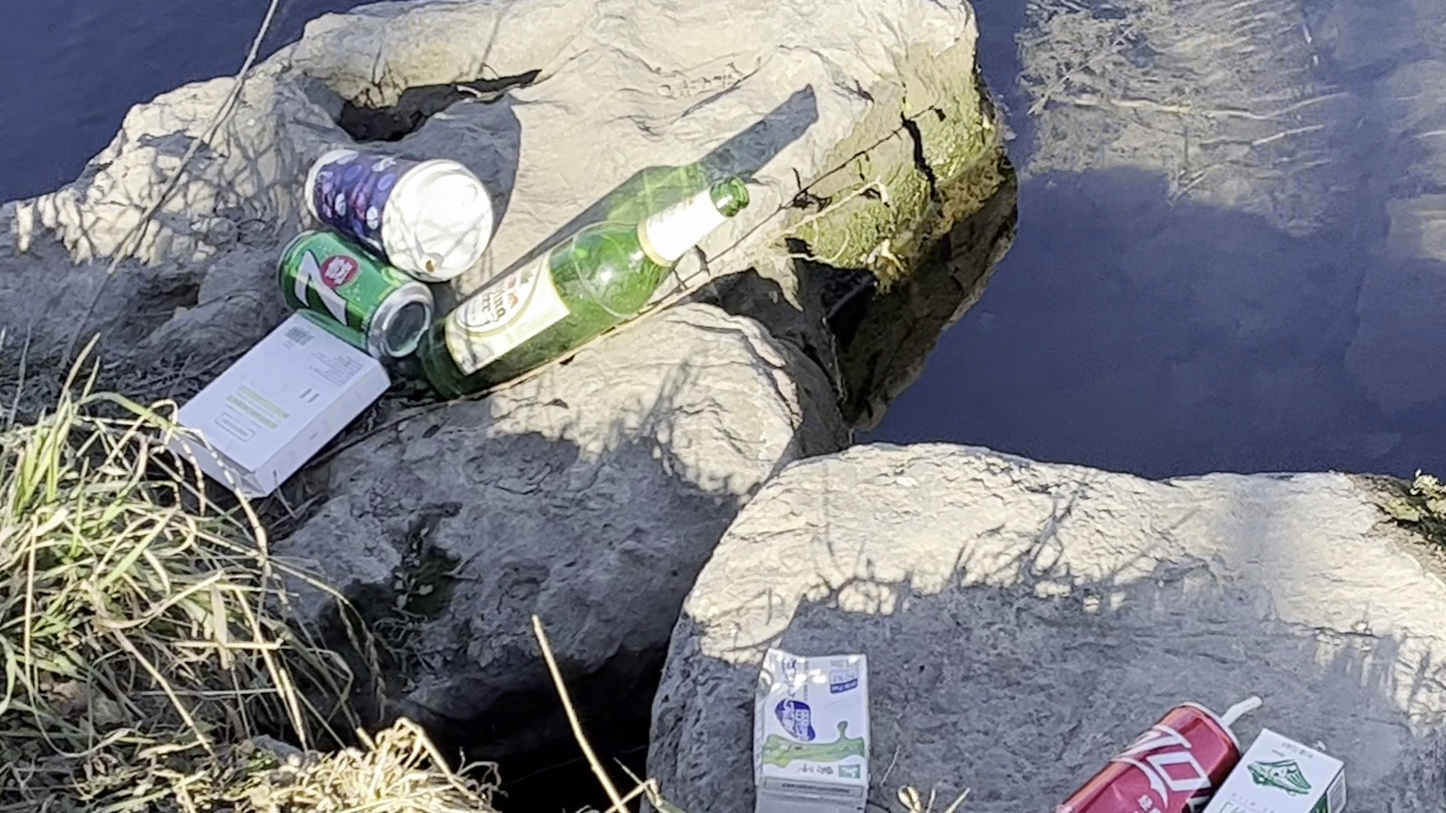floater: (435, 187, 752, 377), (169, 315, 392, 504), (304, 145, 496, 278), (752, 641, 870, 813), (1069, 690, 1236, 804), (280, 234, 446, 346), (1224, 723, 1353, 813)
